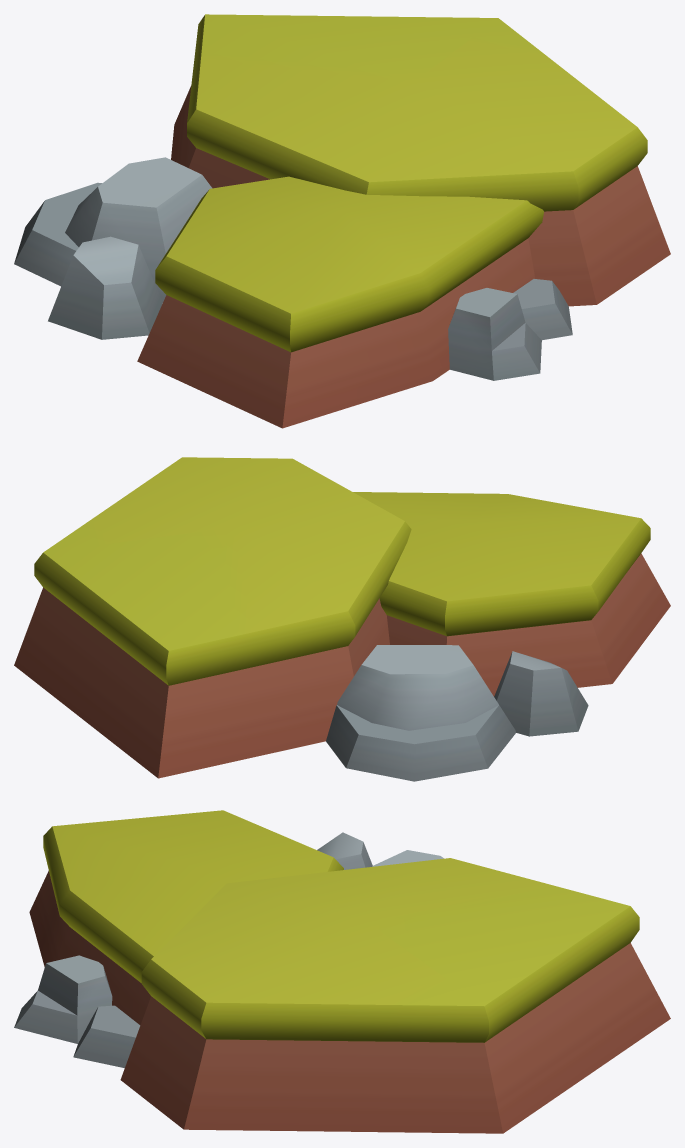
The model's file is hills_b.glb.
3 views of the same model, one above another, from view 1: azimuth 30°, elevation 25°; view 2: azimuth 150°, elevation 25°; view 3: azimuth 270°, elevation 25° (orthographic). The views are drawn at different scales.
Parts seen in each view (by area): view 1: hills_B; view 2: hills_B; view 3: hills_B.
Part boxes in pixels (box(x1,y1,x2,y2)): hills_B: box(14, 14, 670, 428); hills_B: box(14, 457, 670, 781); hills_B: box(14, 810, 670, 1133).
Size of the model in its own units: 1.47 by 0.3659 by 1.62.
1 material, 1 textured.
